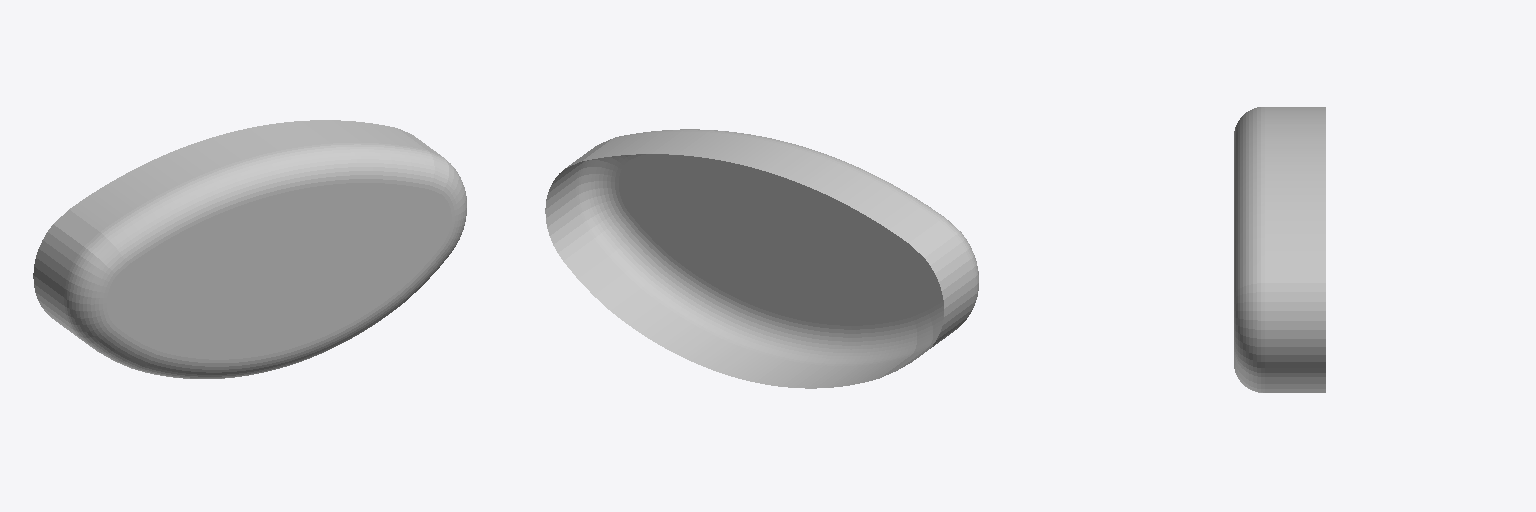
Rendered from original-12.obj.
The picture shows the model from 3 angles: view 1: azimuth 30°, elevation 25°; view 2: azimuth 150°, elevation 25°; view 3: azimuth 270°, elevation 25°; orthographic projection.
Visible parts, largest first — view 1: #ID77; view 2: #ID77; view 3: #ID77.
Boxes of the visible parts, <box> form: #ID77: <box>33,120,466,378</box>; #ID77: <box>545,129,978,388</box>; #ID77: <box>1234,107,1325,392</box>.
Size of the model in its own units: 0.1641 by 0.0843 by 0.033.